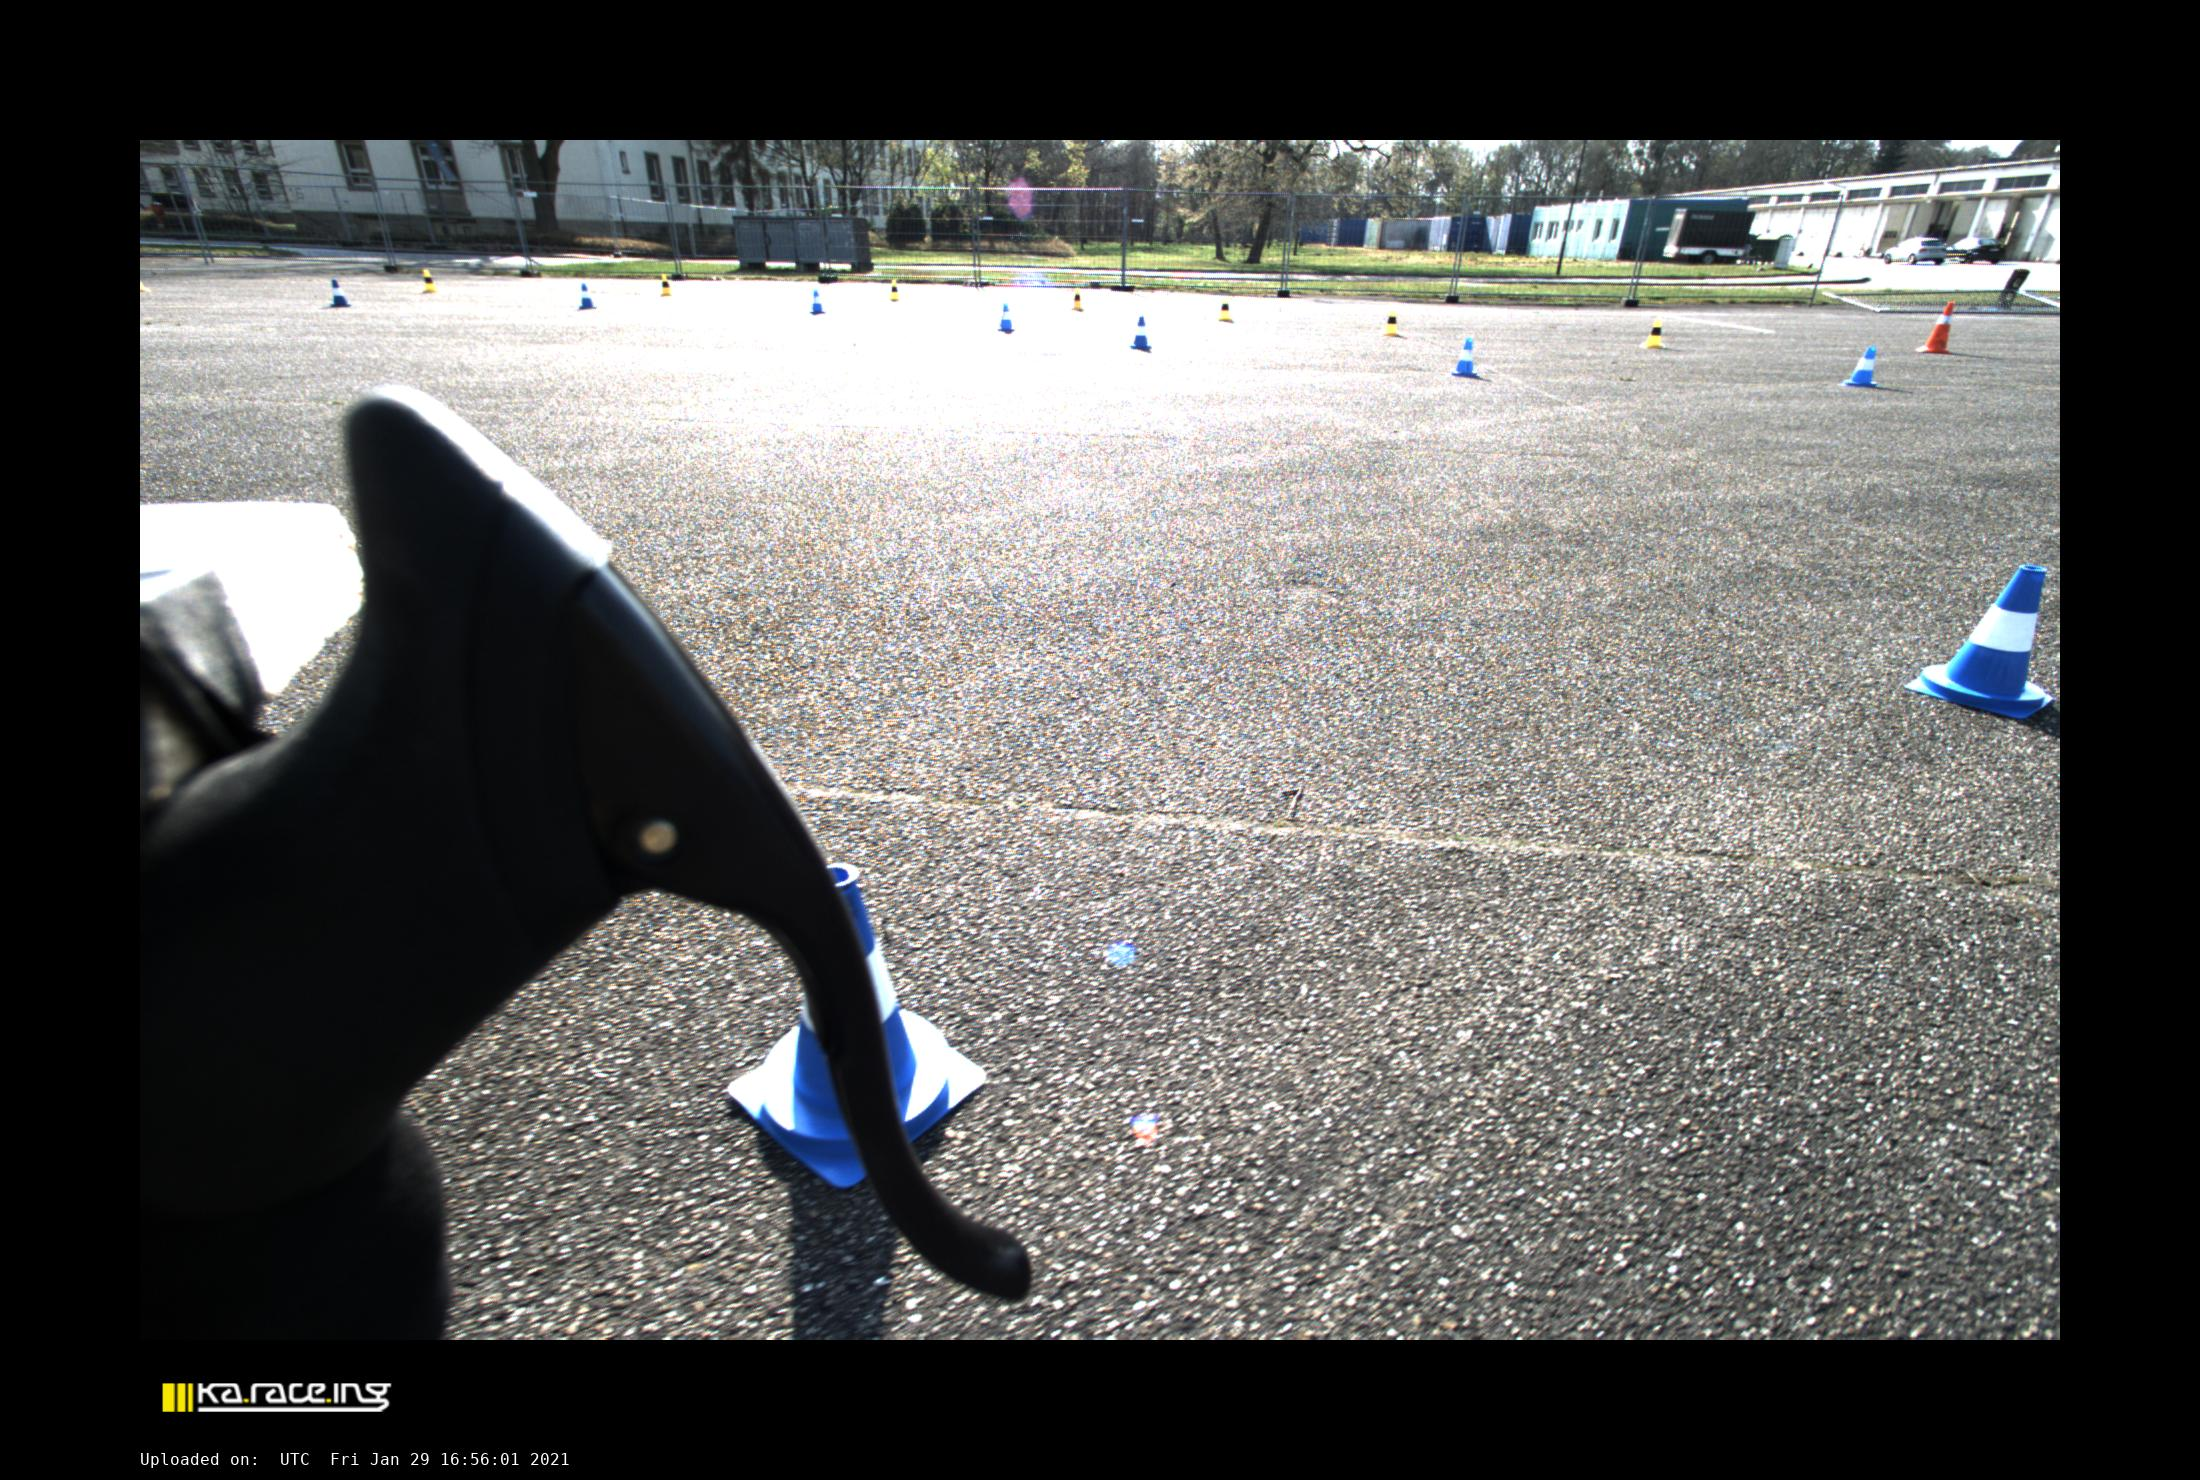blue_cone: (727, 862, 987, 1188), (1904, 565, 2055, 720), (1842, 346, 1878, 387), (1451, 337, 1480, 377), (1129, 315, 1152, 350), (325, 279, 352, 307), (997, 303, 1016, 335), (577, 283, 598, 309), (810, 289, 826, 316)
large_orange_cone: (1916, 302, 1955, 355)
yellow_cone: (1641, 318, 1664, 349), (1383, 311, 1400, 337), (422, 269, 439, 293), (1071, 288, 1085, 311), (1218, 300, 1232, 321), (661, 273, 672, 297), (889, 279, 900, 301)
